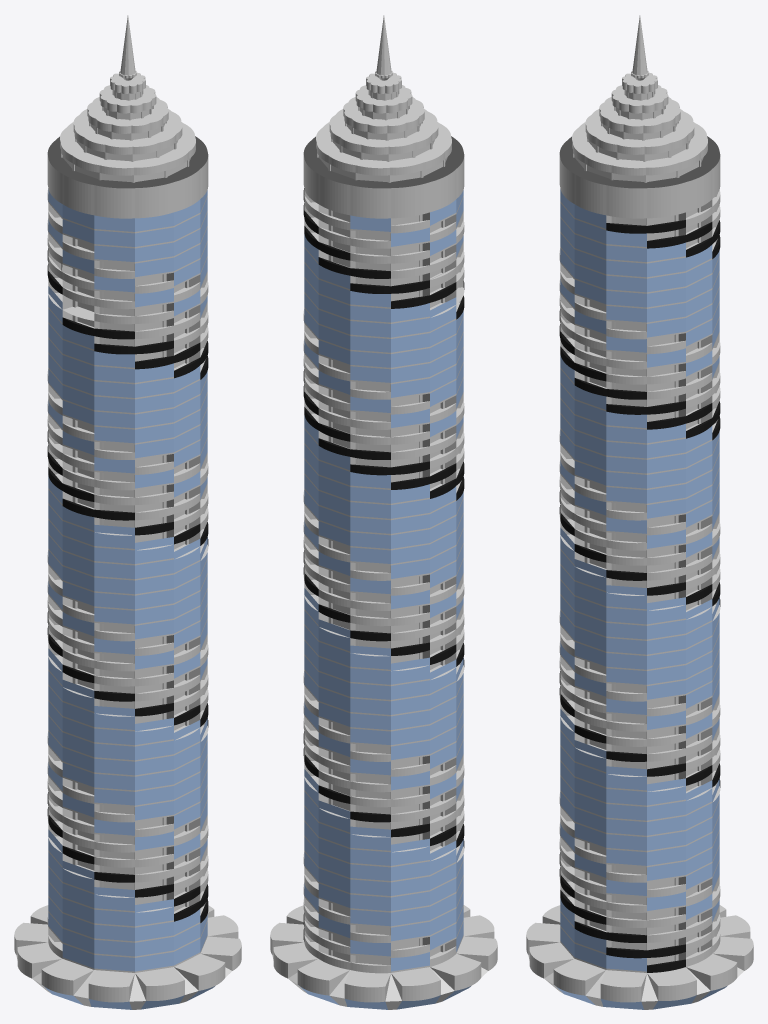
Rendered from Skyscraper5.fbx.
The picture shows the model from 3 angles, left to right: view 1: azimuth 30°, elevation 25°; view 2: azimuth 150°, elevation 25°; view 3: azimuth 270°, elevation 25°; orthographic projection.
Visible parts, largest first — view 1: Mesh1 Model.004; view 2: Mesh1 Model.004; view 3: Mesh1 Model.004.
Part boxes in pixels (bbox=[...]): Mesh1 Model.004: bbox=[14, 15, 241, 1009]; Mesh1 Model.004: bbox=[270, 15, 497, 1009]; Mesh1 Model.004: bbox=[526, 15, 753, 1009].
Size of the model in its own units: 447 by 2076 by 447.
